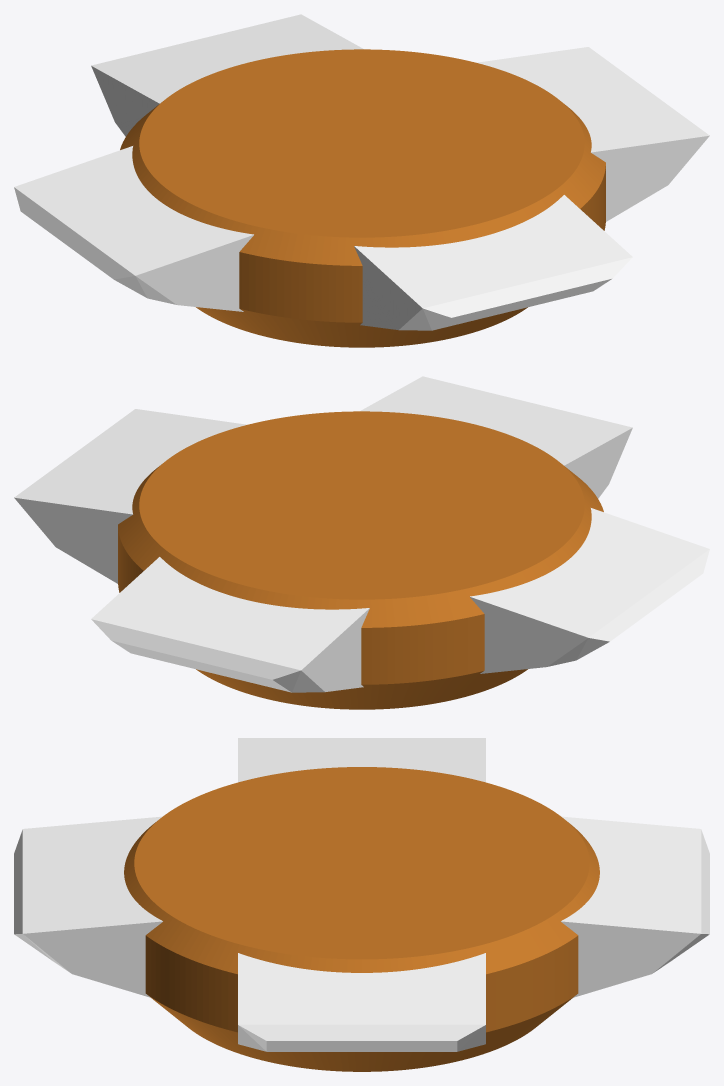
File: ningauble_waist.dae
3 views of the same model, one above another, from view 1: azimuth 30°, elevation 25°; view 2: azimuth 150°, elevation 25°; view 3: azimuth 270°, elevation 25° (orthographic). The views are drawn at different scales.
Parts seen in each view (by area): view 1: WaistMainBarrel, HipShroud; view 2: WaistMainBarrel, HipShroud; view 3: WaistMainBarrel, HipShroud.
Part boxes in pixels (box(x1,y1,x2,y2)): WaistMainBarrel: box(120, 49, 605, 347); HipShroud: box(14, 14, 709, 330); WaistMainBarrel: box(118, 411, 603, 709); HipShroud: box(14, 376, 709, 692); WaistMainBarrel: box(124, 767, 599, 1071); HipShroud: box(14, 738, 709, 1051).
Size of the model in its own units: 0.5022 by 0.5022 by 0.1.
